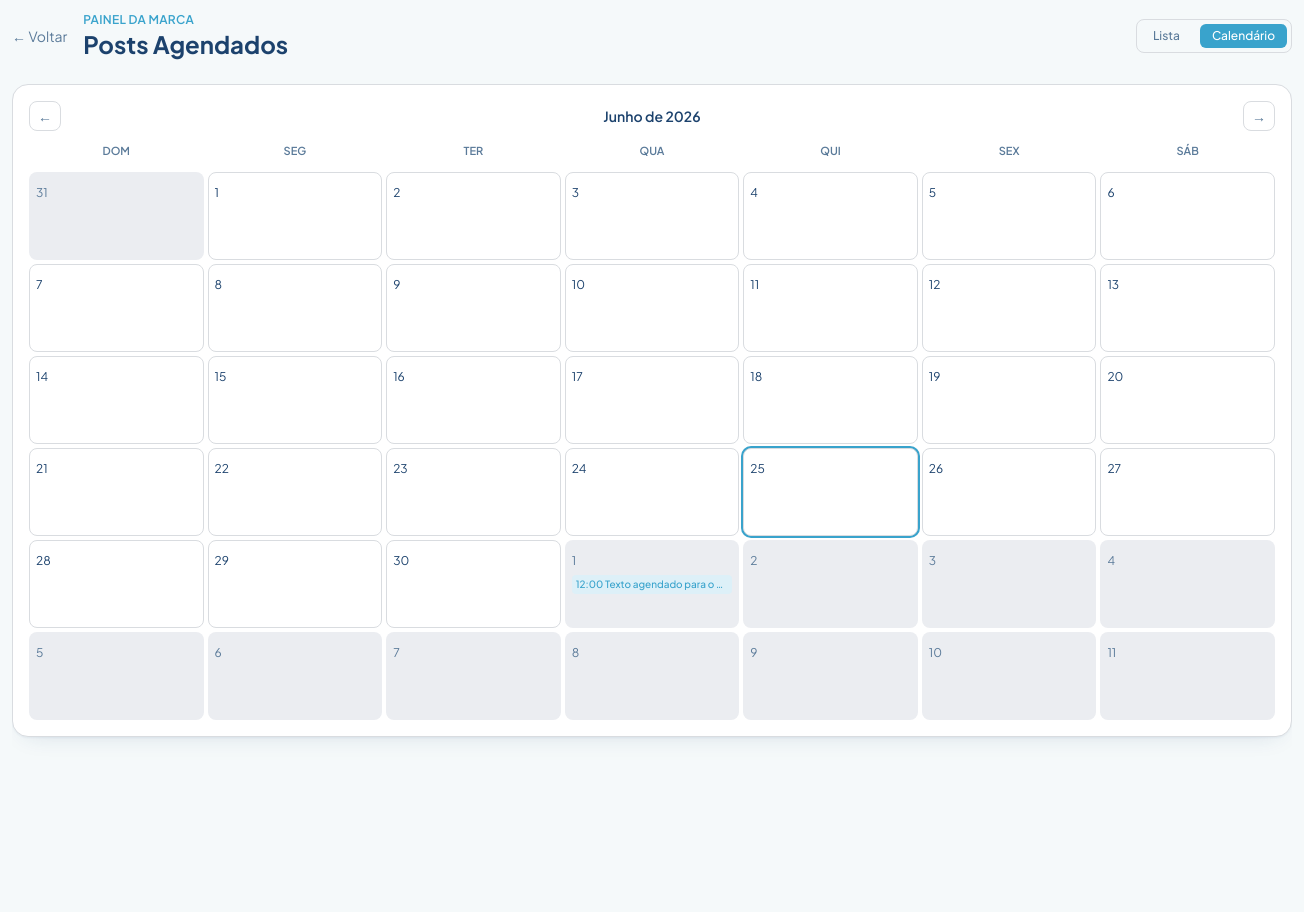
Scenario: ScheduledPostsPage › mostra o selo "Campanha" num post agendado com origin campaign, e edita normalmente
What coordinates should you click on to do the following:
click the button "Lista"
I would click on:
 (1166, 36)
Its box is [1141, 24, 1192, 48].
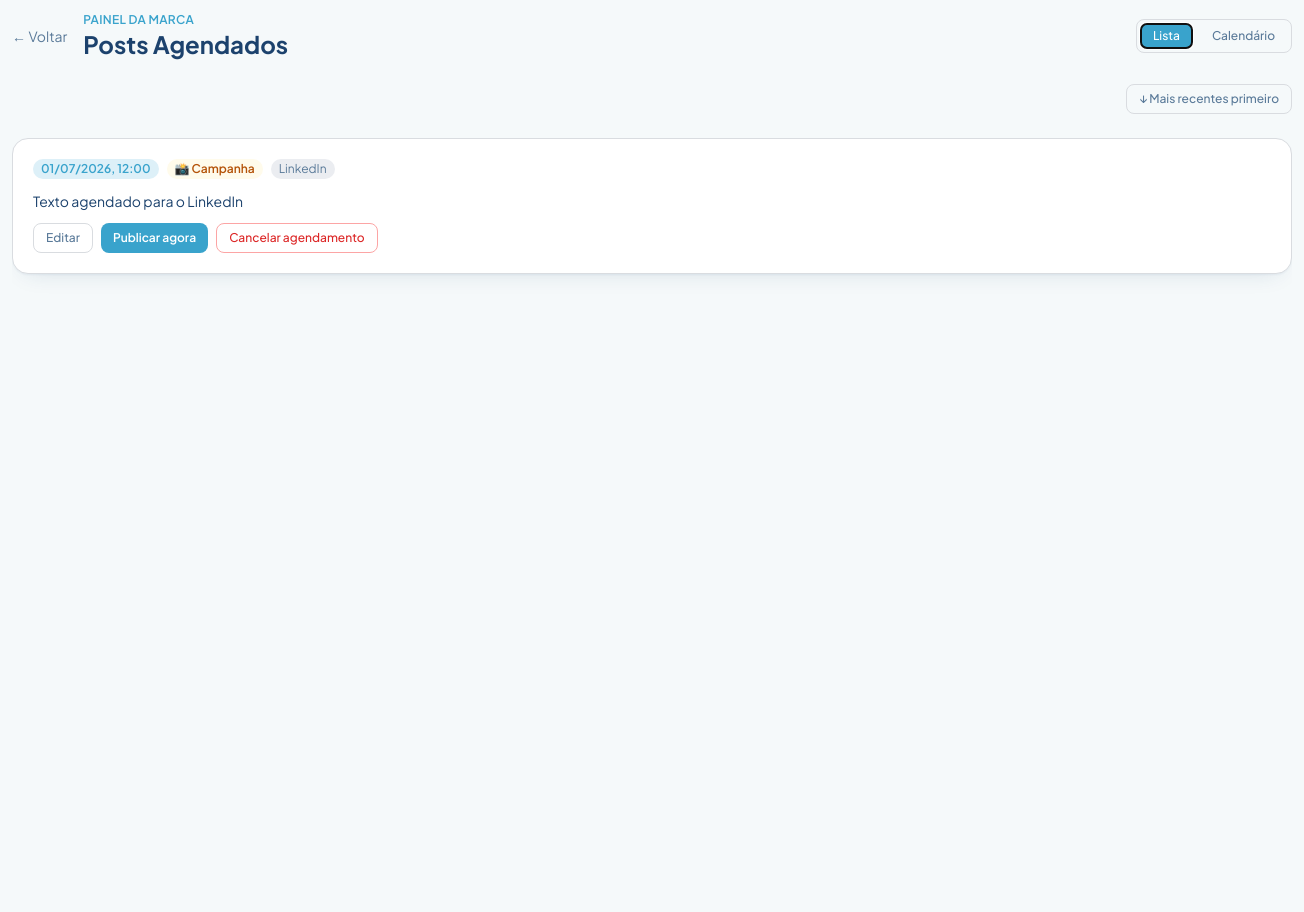
Result: the text "📸 Campanha" is shown at [166, 159, 263, 179]
